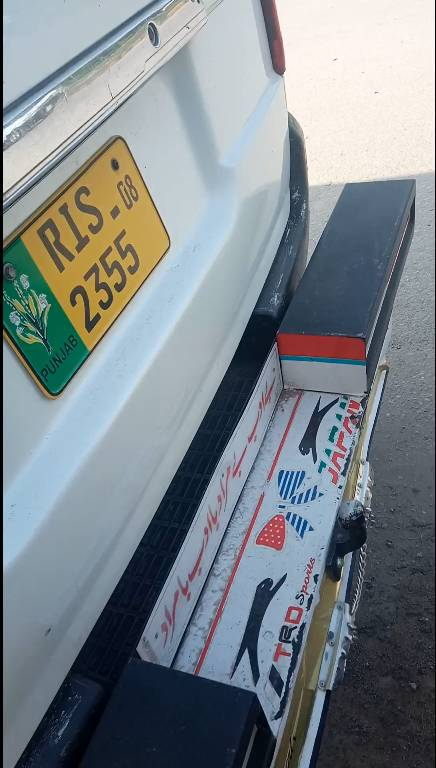number_plate: (3, 131, 174, 400)
